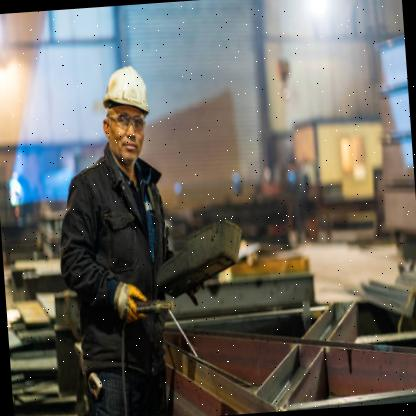capacete: (99, 63, 154, 124)
oculos: (110, 110, 149, 135)
